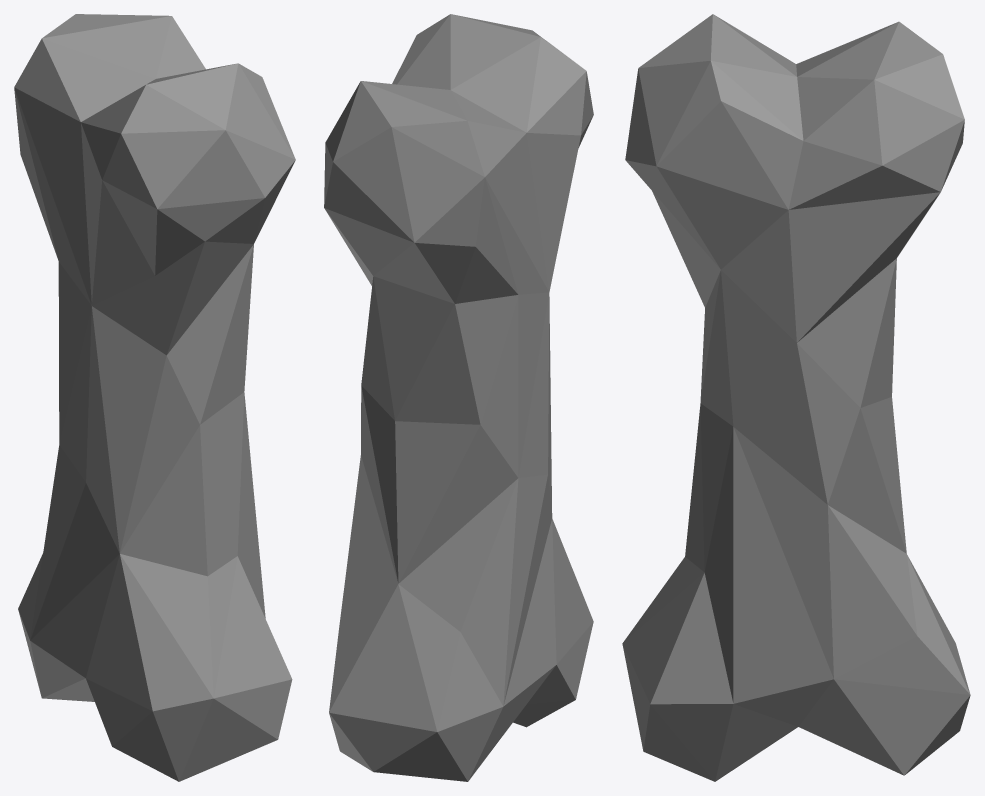
Rendered from bone_only_fbx.fbx.
The picture shows the model from 3 angles, left to right: view 1: azimuth 30°, elevation 25°; view 2: azimuth 150°, elevation 25°; view 3: azimuth 270°, elevation 25°; orthographic projection. The views are drawn at different scales.
Visible parts, largest first — view 1: bone; view 2: bone; view 3: bone.
Part boxes in pixels (<box>): bone: <box>14,14,295,781</box>; bone: <box>324,14,593,781</box>; bone: <box>622,14,970,781</box>.
Bounding box in the file's own units: 0.1429 × 0.5306 × 0.2329.
Materials: 1 (1 with a texture image).
